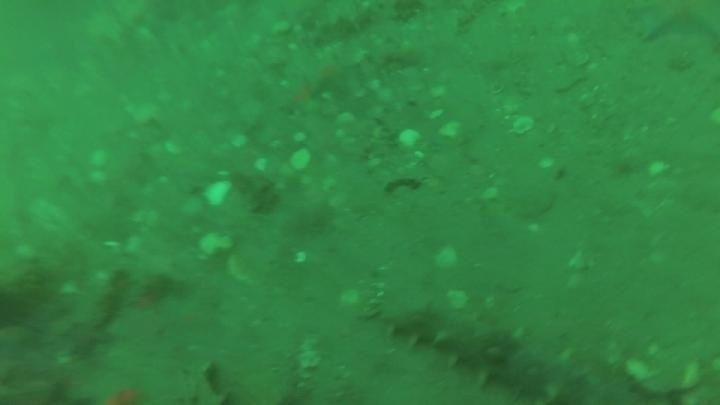holothurian: (381, 301, 597, 404)
starfish: (628, 1, 720, 47)
